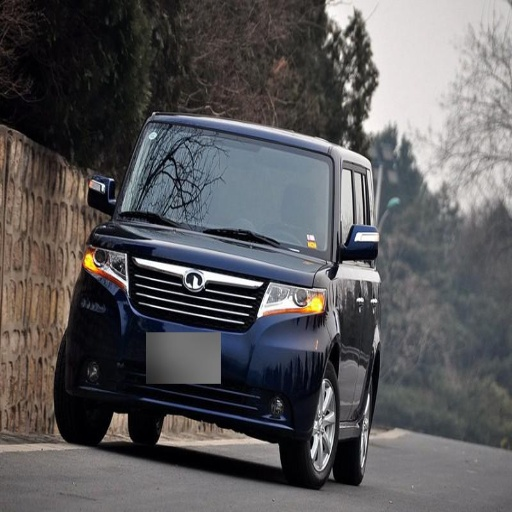front_bumper: (71, 242, 337, 438)
front_glass: (117, 125, 324, 255)
front_right_light: (86, 241, 128, 280)
hood: (94, 209, 326, 285)
